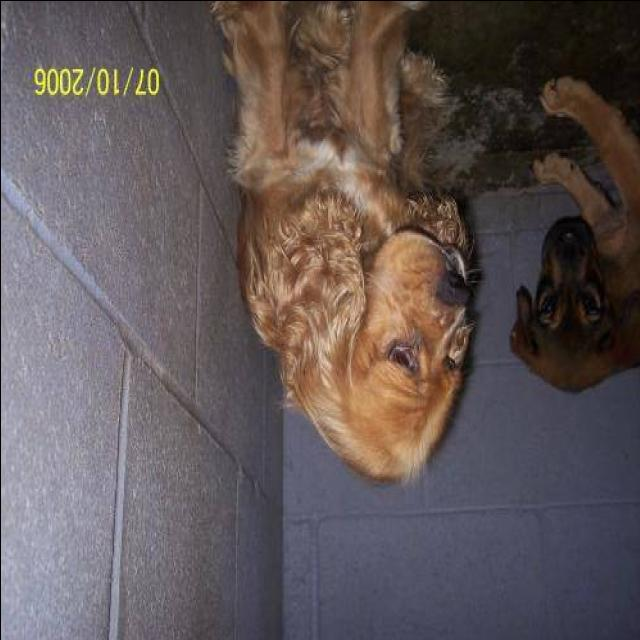dog: (198, 0, 491, 495)
